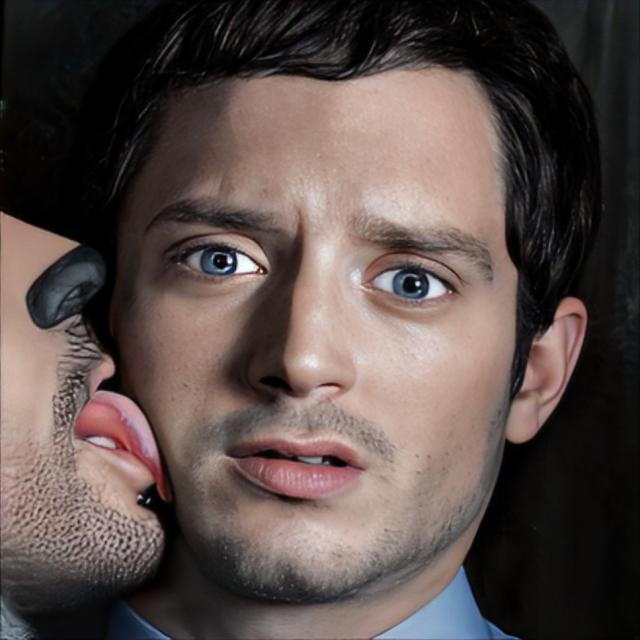fear: (110, 36, 522, 608)
